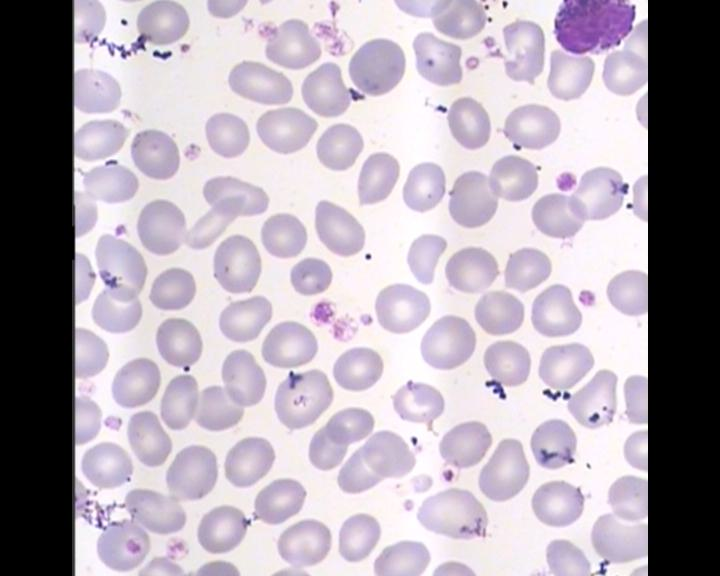baso: (552, 0, 641, 59)
